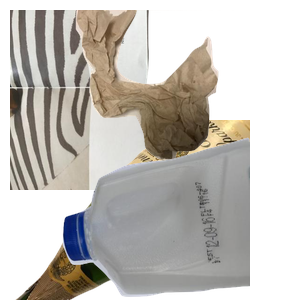glass: (13, 120, 253, 300)
paper: (10, 10, 250, 190)
plastic: (60, 135, 300, 300)
trash: (73, 10, 300, 163)
